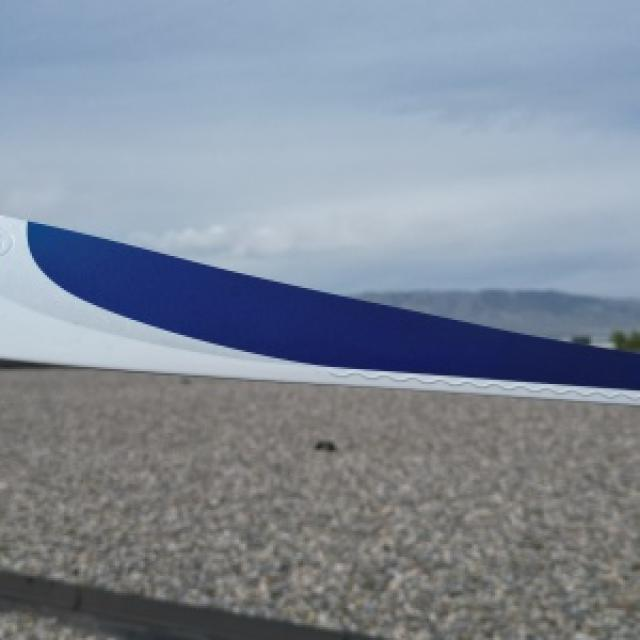healthy: (4, 215, 638, 401)
